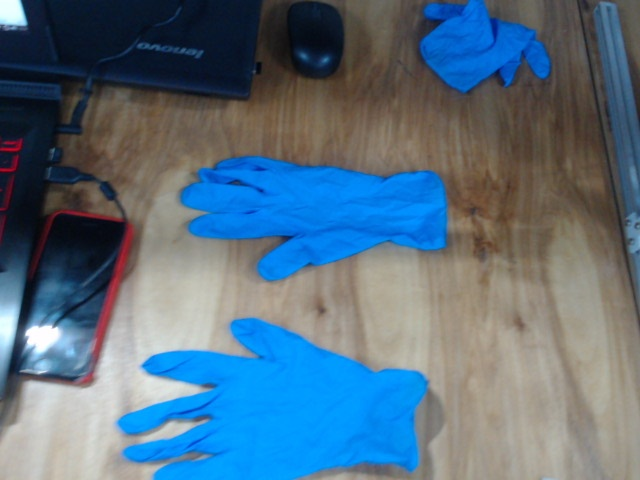medical_glove: (118, 318, 429, 480), (179, 156, 448, 280)
